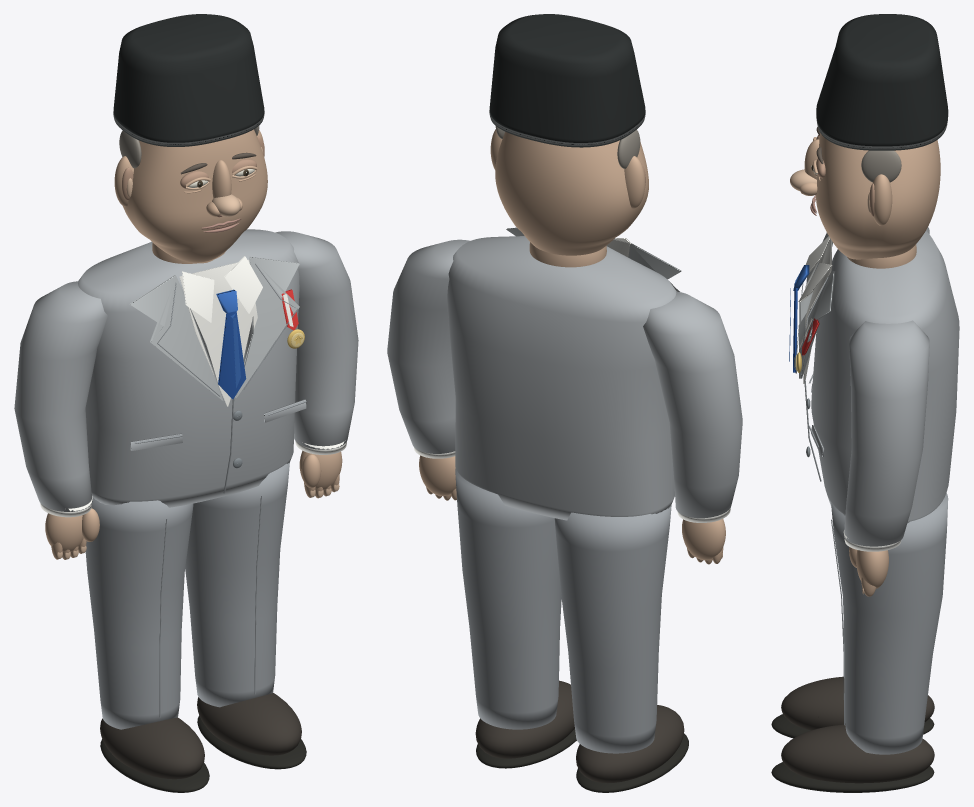
The model's file is reference-gentleman-v1.glb.
3 views of the same model, side by side, from view 1: azimuth 30°, elevation 25°; view 2: azimuth 150°, elevation 25°; view 3: azimuth 270°, elevation 25° (orthographic). The views are drawn at different scales.
Visible parts, largest first — view 1: tailored_jacket, trouser_leg_-1, trouser_leg_1, black_peci, jacket_sleeve_-1, jacket_sleeve_1, sculpted_head, black_dress_shoe_-1, black_dress_shoe_1, jacket_lapel_-1, jacket_lapel_1, shirt_front (+8 smaller); view 2: tailored_jacket, trouser_leg_-1, trouser_leg_1, black_peci, jacket_sleeve_-1, sculpted_head, jacket_sleeve_1, black_dress_shoe_-1, black_dress_shoe_1, palm_-1, shoe_sole_-1, palm_1 (+4 smaller); view 3: tailored_jacket, trouser_leg_1, jacket_sleeve_1, black_peci, sculpted_head, black_dress_shoe_1, black_dress_shoe_-1, shoe_sole_1, jacket_lapel_1, sideburn_1, palm_1, ear_1 (+7 smaller).
Part boxes in pixels (x1,y1,x2,y2): tailored_jacket: [78, 229, 299, 507]; trouser_leg_-1: [85, 497, 193, 729]; trouser_leg_1: [185, 462, 289, 707]; black_peci: [113, 14, 264, 146]; jacket_sleeve_-1: [14, 281, 107, 511]; jacket_sleeve_1: [275, 231, 358, 449]; sculpted_head: [123, 129, 267, 262]; black_dress_shoe_-1: [100, 717, 204, 779]; black_dress_shoe_1: [197, 693, 301, 755]; jacket_lapel_-1: [129, 275, 223, 400]; jacket_lapel_1: [235, 256, 299, 397]; shirt_front: [179, 259, 257, 406]; tailored_jacket: [447, 236, 676, 520]; trouser_leg_-1: [554, 505, 671, 753]; trouser_leg_1: [455, 468, 561, 729]; black_peci: [489, 14, 645, 147]; jacket_sleeve_-1: [643, 291, 742, 518]; sculpted_head: [495, 132, 648, 255]; jacket_sleeve_1: [387, 239, 469, 453]; black_dress_shoe_-1: [576, 705, 684, 783]; black_dress_shoe_1: [475, 680, 574, 758]; palm_-1: [682, 519, 725, 560]; shoe_sole_-1: [576, 733, 688, 792]; palm_1: [419, 455, 456, 495]; tailored_jacket: [811, 231, 959, 522]; trouser_leg_1: [831, 493, 948, 754]; jacket_sleeve_1: [844, 320, 929, 546]; black_peci: [816, 14, 948, 150]; sculpted_head: [816, 133, 940, 259]; black_dress_shoe_1: [781, 724, 934, 783]; black_dress_shoe_-1: [781, 676, 934, 730]; shoe_sole_1: [771, 762, 934, 792]; jacket_lapel_1: [799, 271, 835, 378]; sideburn_1: [861, 150, 901, 182]; palm_1: [856, 550, 888, 588]; ear_1: [873, 174, 892, 225].
Size of the model in its own units: 0.932 by 1.89 by 0.448.
